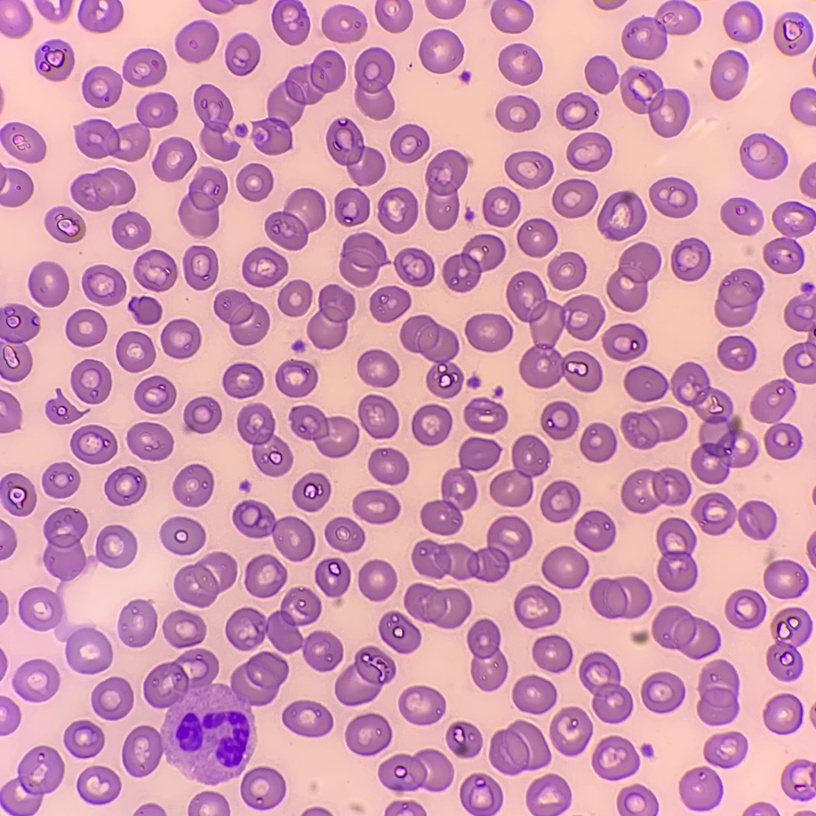RBC: (122, 649, 287, 784), (507, 272, 604, 391), (671, 363, 758, 483), (252, 50, 345, 154), (226, 588, 342, 670), (412, 516, 531, 581), (421, 437, 499, 534), (75, 92, 177, 160), (401, 315, 462, 397), (233, 500, 314, 560), (621, 67, 689, 136), (622, 0, 700, 59), (0, 746, 64, 815), (490, 435, 550, 506), (750, 379, 800, 459), (237, 403, 292, 475), (692, 493, 776, 539), (327, 118, 384, 185), (579, 652, 632, 723), (763, 201, 815, 273), (265, 188, 325, 249), (607, 243, 660, 311), (290, 405, 358, 457), (652, 606, 720, 658), (335, 647, 395, 705), (443, 234, 504, 291), (174, 552, 236, 606), (767, 607, 812, 681), (426, 150, 468, 229), (179, 167, 227, 236), (194, 84, 238, 159), (489, 721, 550, 774), (379, 749, 453, 792), (784, 283, 815, 383), (44, 508, 87, 580), (0, 304, 39, 381), (622, 468, 690, 512), (214, 290, 269, 344), (307, 285, 354, 348), (657, 518, 697, 591), (404, 583, 470, 627), (355, 47, 394, 119), (468, 619, 507, 690), (697, 660, 739, 725), (715, 269, 762, 326), (621, 407, 686, 448), (71, 168, 134, 210), (590, 577, 651, 617), (340, 233, 386, 286), (597, 191, 645, 240), (64, 627, 112, 673), (740, 133, 787, 179), (592, 736, 639, 780), (550, 707, 592, 755), (514, 585, 560, 628), (419, 29, 463, 73), (13, 659, 59, 701), (19, 587, 63, 630), (346, 713, 391, 755), (542, 547, 588, 588), (649, 178, 697, 217), (710, 50, 748, 99), (679, 767, 722, 810), (153, 137, 195, 181), (241, 767, 285, 809), (526, 774, 571, 815), (0, 122, 45, 162), (176, 20, 218, 62), (91, 677, 133, 719), (283, 700, 332, 736), (134, 250, 177, 291), (71, 359, 111, 403), (242, 247, 287, 286), (118, 600, 156, 646), (399, 686, 445, 724), (505, 151, 552, 188), (245, 555, 286, 597), (460, 774, 502, 815), (499, 44, 542, 84), (82, 265, 125, 305), (358, 395, 398, 438), (29, 262, 68, 306), (552, 179, 597, 217), (71, 425, 116, 463), (466, 314, 512, 351), (379, 612, 420, 653), (173, 464, 213, 506), (96, 525, 136, 567), (642, 672, 684, 712), (567, 132, 611, 170), (379, 188, 417, 232), (764, 560, 808, 598), (127, 423, 172, 460), (671, 238, 710, 280), (774, 12, 812, 55), (77, 766, 120, 804), (272, 0, 309, 44), (322, 5, 366, 42), (160, 517, 204, 554), (575, 511, 615, 551), (723, 1, 762, 42), (82, 66, 121, 107), (603, 323, 646, 360), (513, 676, 556, 713), (541, 481, 580, 521), (725, 589, 765, 628), (763, 694, 802, 734), (35, 39, 73, 80), (557, 92, 598, 130), (105, 467, 146, 505), (123, 49, 165, 86), (496, 95, 539, 131), (161, 319, 200, 358), (412, 405, 451, 444), (517, 218, 557, 256), (116, 331, 154, 371), (353, 490, 399, 523), (721, 198, 763, 234), (163, 611, 205, 647), (624, 366, 667, 401), (464, 398, 507, 433), (704, 732, 747, 767), (395, 248, 434, 286), (66, 309, 106, 346), (135, 376, 175, 413), (359, 560, 396, 600), (276, 360, 317, 396), (0, 474, 36, 515), (183, 246, 217, 289), (391, 124, 429, 162), (533, 635, 572, 672), (64, 720, 103, 757), (358, 350, 398, 386), (225, 33, 259, 75), (78, 0, 122, 32), (548, 252, 586, 289), (293, 473, 330, 511), (483, 187, 519, 226), (369, 448, 408, 484), (45, 207, 85, 242), (370, 286, 410, 321), (541, 402, 578, 439), (112, 212, 150, 248), (580, 423, 616, 461), (223, 363, 263, 397), (491, 0, 532, 33), (315, 558, 350, 596), (325, 517, 364, 551), (184, 397, 221, 432), (42, 463, 79, 498), (718, 336, 756, 370), (781, 760, 815, 798), (237, 164, 272, 200), (335, 188, 369, 225), (585, 55, 618, 93), (0, 167, 32, 206), (447, 722, 482, 757), (617, 785, 657, 815), (278, 280, 311, 316), (375, 0, 412, 32), (0, 0, 31, 37), (188, 791, 229, 815), (790, 88, 815, 125), (129, 297, 161, 324), (0, 391, 21, 432), (0, 696, 20, 735), (46, 398, 77, 423), (35, 0, 71, 20), (426, 0, 465, 18), (0, 522, 16, 559), (201, 0, 246, 13), (385, 801, 425, 815), (800, 163, 815, 198), (745, 803, 777, 815), (136, 804, 164, 815), (595, 0, 623, 9), (807, 535, 815, 563), (0, 594, 8, 621), (304, 807, 328, 815), (633, 632, 647, 642), (0, 653, 6, 675), (235, 125, 246, 136), (642, 745, 652, 756), (295, 342, 304, 351), (469, 378, 479, 386), (810, 707, 815, 721), (801, 811, 811, 815)
